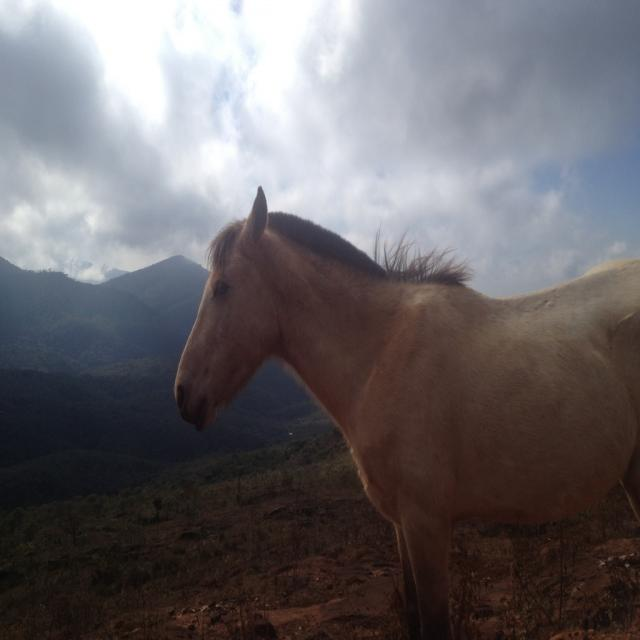Horse: (176, 187, 640, 638)
